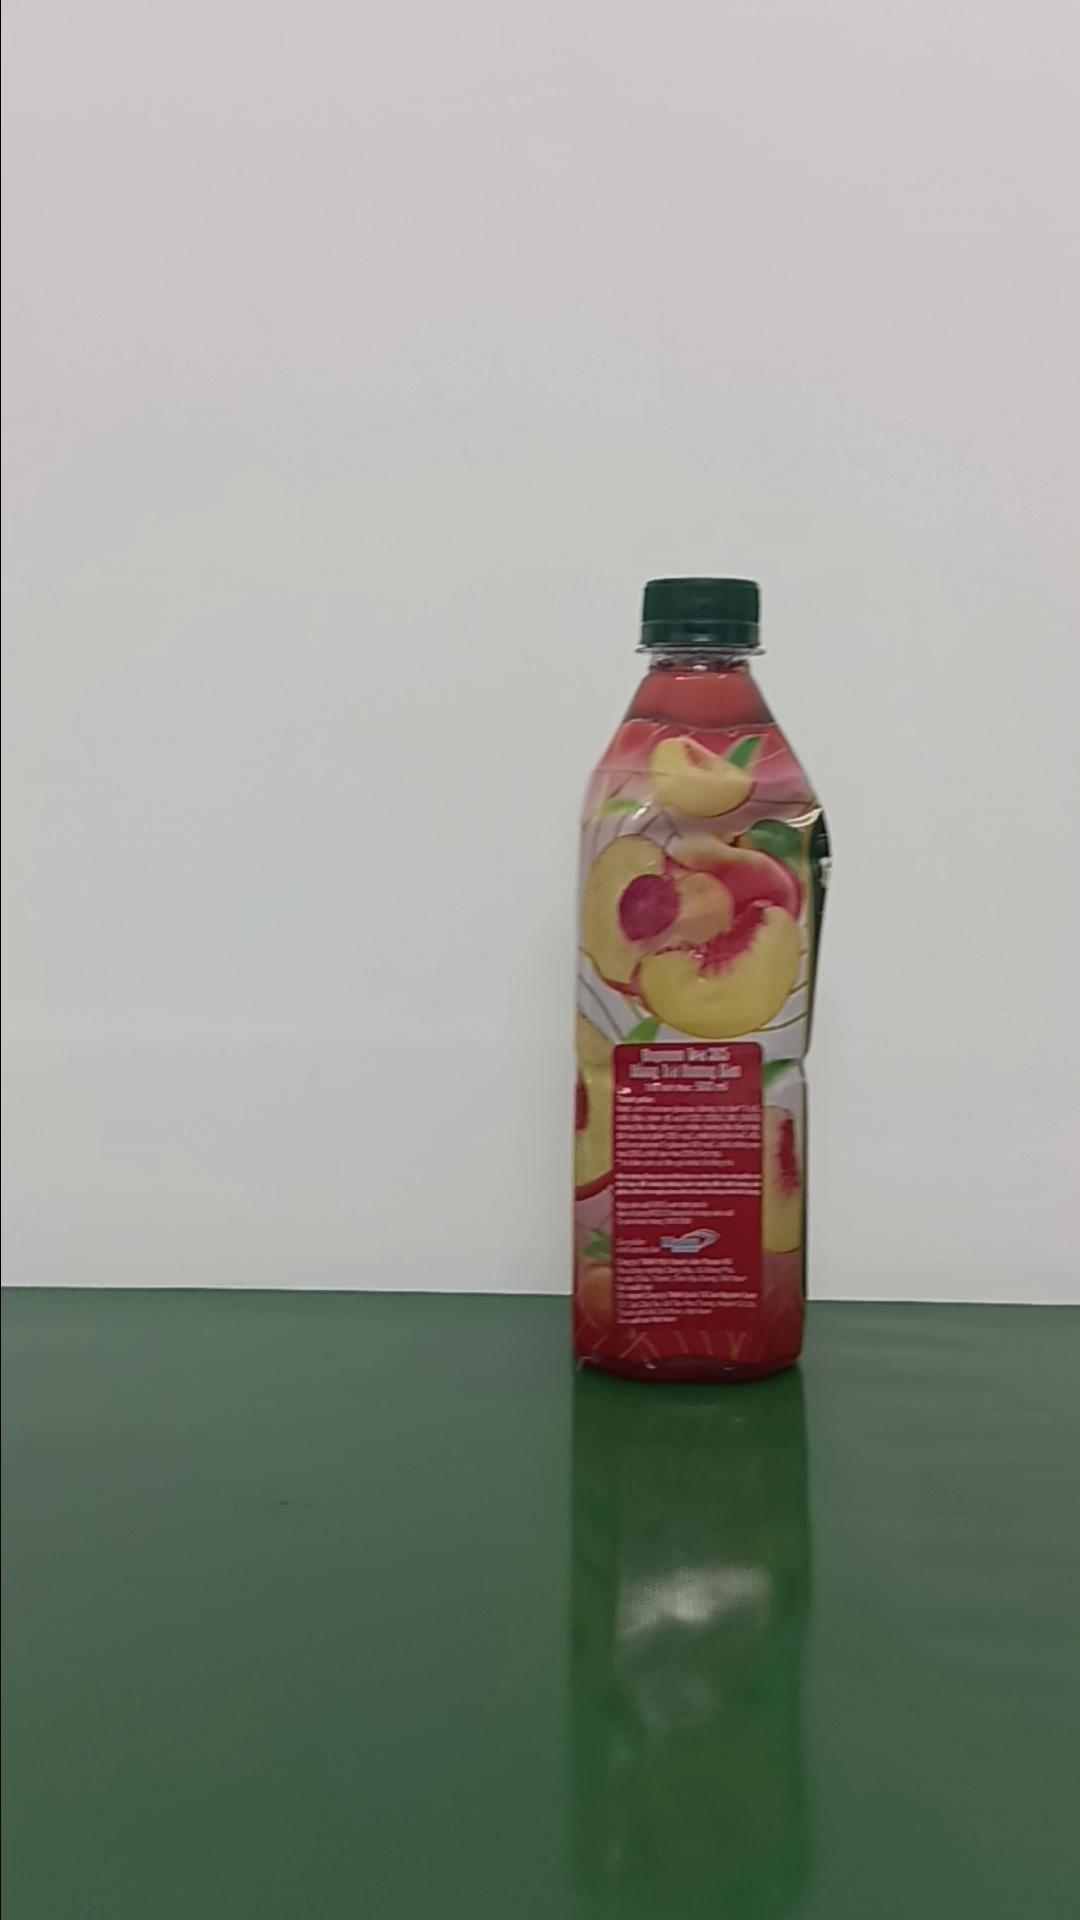loi meo sp: (568, 574, 832, 1383)
